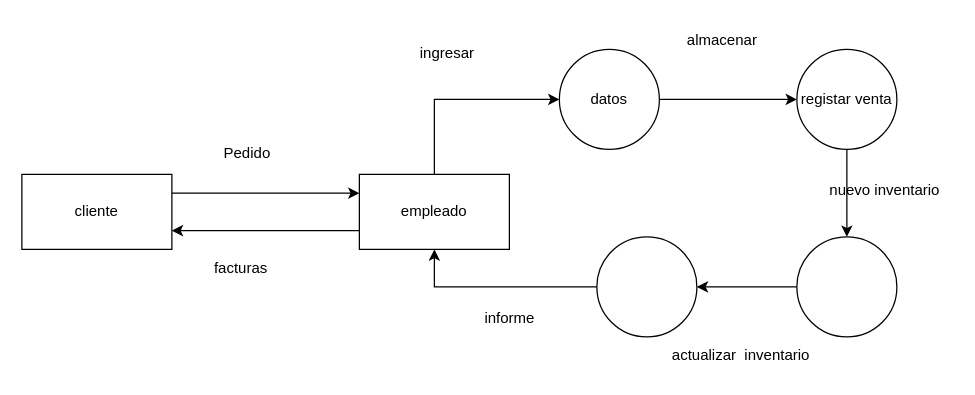
Image size: 975x395. Some labels were removed from this diagram. The shapes that lost their labels are listed below. From the top down, each one's box as (x1, y1, x2, y2) in pixels, then its label:
(596, 236, 697, 337): almacenar la nueva cantidad
(796, 236, 897, 337): reducir inventario
